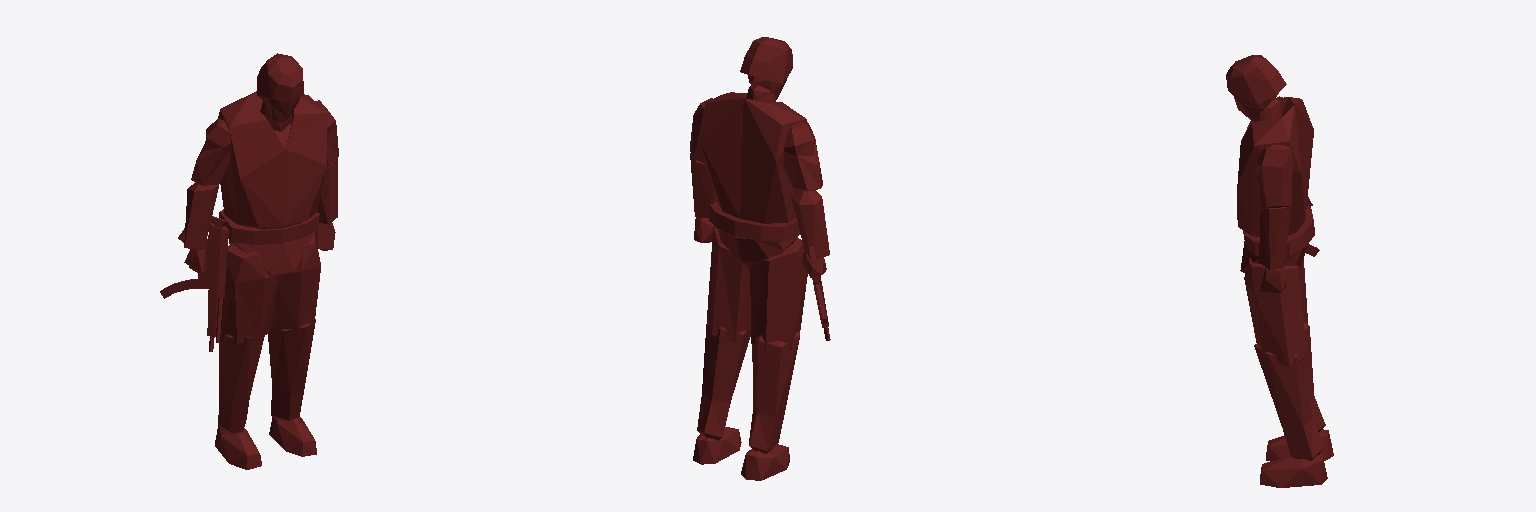
Rendered from swat2.obj.
3 views of the same model, side by side, from view 1: azimuth 30°, elevation 25°; view 2: azimuth 150°, elevation 25°; view 3: azimuth 270°, elevation 25° (orthographic).
Visible parts, largest first — view 1: Chest, L_Thigh, L_Leg_lowe, R_Leg_lowe, R_Thigh, GUN, Helmet, R_Arm_uppe, R_arm_lowe, Belt, Waist, R_Foot (+3 smaller); view 2: Chest, L_Thigh, R_Leg_lowe, L_Leg_lowe, R_Thigh, R_Arm_uppe, Helmet, R_arm_lowe, Belt, Waist, R_Foot, L_Foot (+3 smaller); view 3: Chest, R_Thigh, L_Leg_lowe, Helmet, L_Arm_uppe, L_Foot, L_arm_lowe, Belt, R_Foot, R_Leg_lowe, L_Hand.
Part boxes in pixels (x1,y1,x2,y2): Chest: (218, 91, 326, 229); L_Thigh: (220, 244, 277, 344); L_Leg_lowe: (268, 319, 315, 420); R_Leg_lowe: (218, 334, 264, 433); R_Thigh: (271, 233, 320, 331); GUN: (160, 216, 228, 351); Helmet: (257, 53, 303, 102); R_Arm_uppe: (191, 119, 230, 185); R_arm_lowe: (184, 182, 218, 249); Belt: (219, 209, 319, 244); Waist: (229, 230, 315, 275); R_Foot: (215, 425, 261, 469); Chest: (698, 92, 806, 223); L_Thigh: (750, 237, 807, 352); R_Leg_lowe: (749, 331, 799, 453); L_Leg_lowe: (697, 323, 750, 440); R_Thigh: (707, 226, 750, 341); R_Arm_uppe: (784, 122, 822, 190); Helmet: (740, 37, 792, 83); R_arm_lowe: (791, 190, 829, 259); Belt: (709, 202, 800, 241); Waist: (718, 229, 797, 272); R_Foot: (741, 444, 789, 480); L_Foot: (693, 427, 741, 464); Chest: (1237, 97, 1313, 236); R_Thigh: (1244, 258, 1306, 367); L_Leg_lowe: (1254, 344, 1324, 460); Helmet: (1226, 55, 1286, 105); L_Arm_uppe: (1255, 145, 1292, 208); L_Foot: (1260, 454, 1327, 487); L_arm_lowe: (1259, 206, 1291, 269); Belt: (1243, 205, 1314, 255); R_Foot: (1266, 429, 1333, 460); R_Leg_lowe: (1304, 322, 1325, 431); L_Hand: (1260, 268, 1286, 292).
Size of the model in its own units: 1.92 by 4.85 by 1.16.